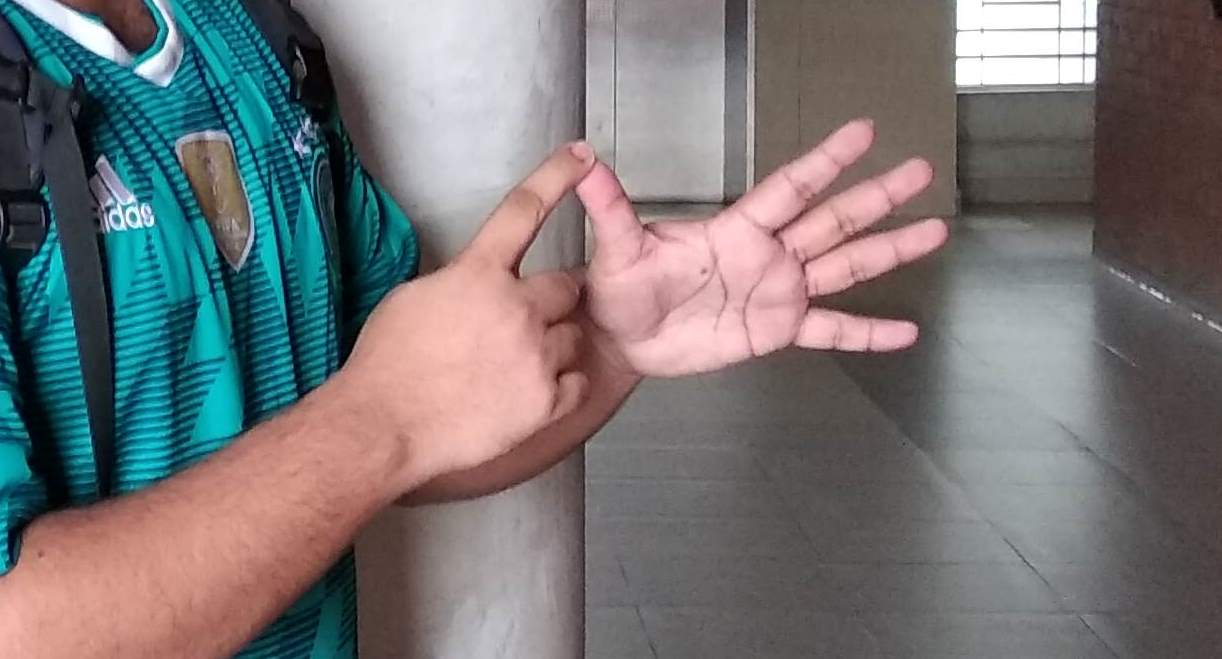a: (459, 118, 919, 397)
